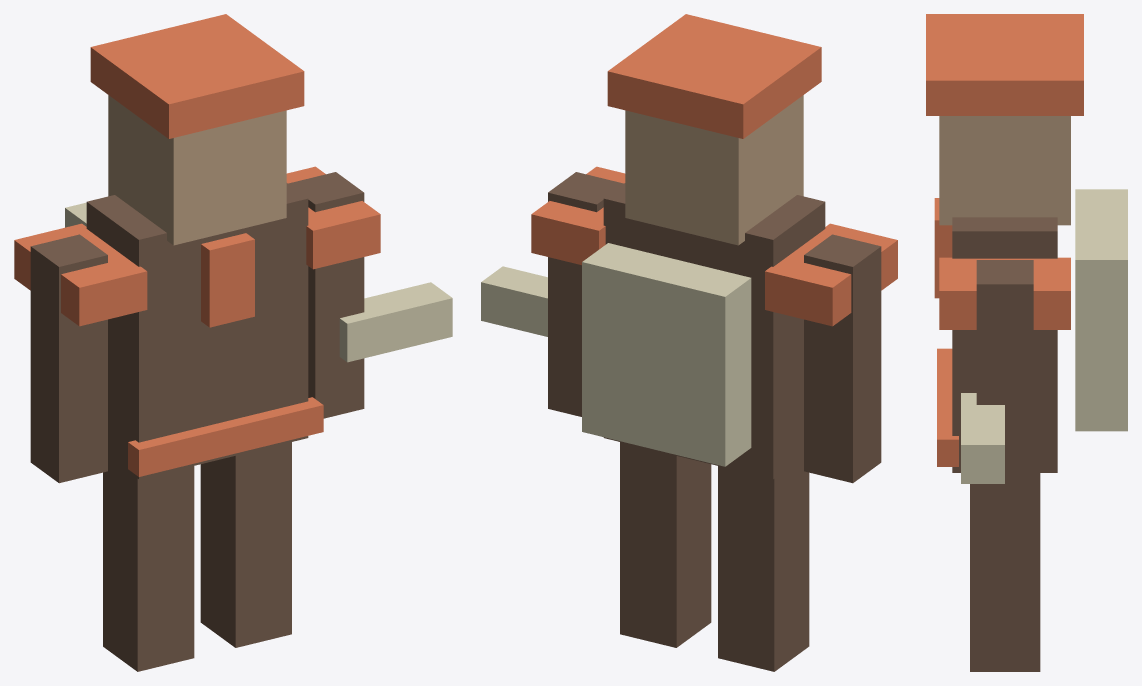
File: 19_auren_riftwalker_navigator_under_bonewind.glb
3 renders of one model, left to right at view 1: azimuth 30°, elevation 25°; view 2: azimuth 150°, elevation 25°; view 3: azimuth 270°, elevation 25°, orthographic.
Visible parts, largest first — view 1: Auren Riftwalker, Navigator under Bonewind; view 2: Auren Riftwalker, Navigator under Bonewind; view 3: Auren Riftwalker, Navigator under Bonewind.
Part boxes in pixels (<box>): Auren Riftwalker, Navigator under Bonewind: <box>14,14,452,671</box>; Auren Riftwalker, Navigator under Bonewind: <box>481,14,897,671</box>; Auren Riftwalker, Navigator under Bonewind: <box>926,14,1127,671</box>.
Bounding box in the file's own units: 1.03 × 1.48 × 0.463.
